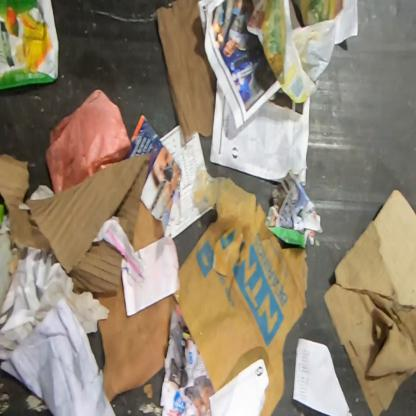cardboard: (179, 168, 308, 416), (0, 147, 164, 293), (323, 190, 416, 415), (93, 272, 172, 403), (156, 1, 218, 142)
soft_plastic: (247, 0, 344, 104), (45, 88, 132, 197), (0, 0, 60, 90)
